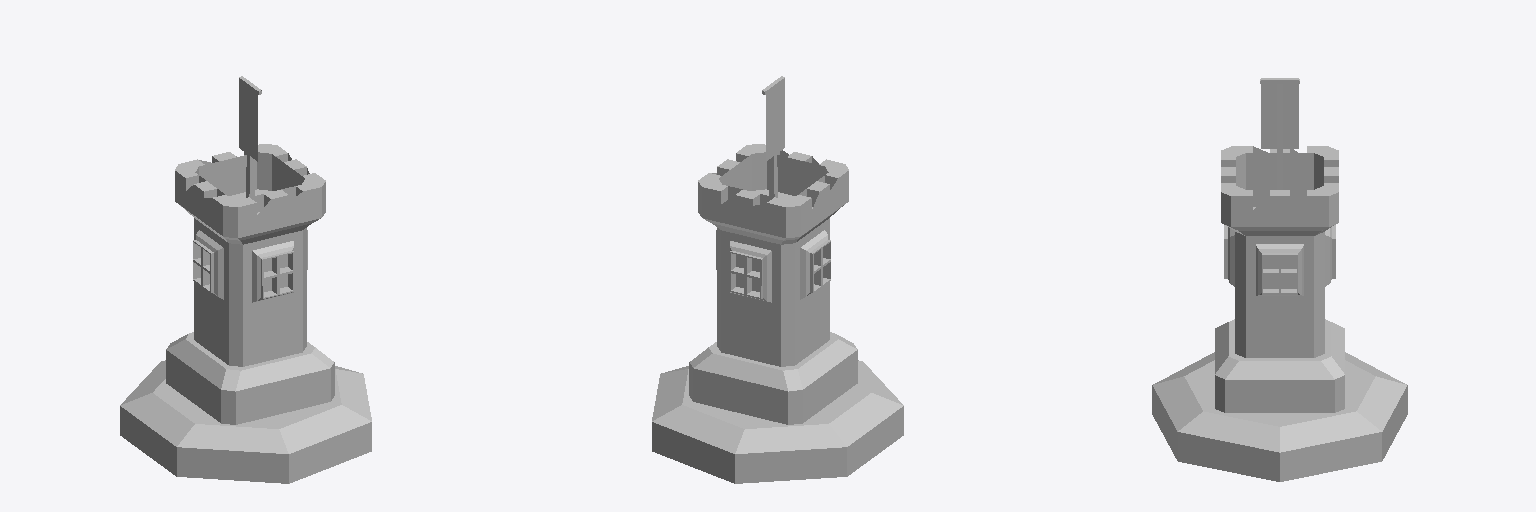
File: Windows Rook.obj
3 views of the same model, side by side, from view 1: azimuth 30°, elevation 25°; view 2: azimuth 150°, elevation 25°; view 3: azimuth 270°, elevation 25° (orthographic).
Parts seen in each view (by area): view 1: [MESH]_Flag_Plane.001; view 2: [MESH]_Flag_Plane.001; view 3: [MESH]_Flag_Plane.001.
Part boxes in pixels (x1,y1,x2,y2): [MESH]_Flag_Plane.001: (120,76,371,483); [MESH]_Flag_Plane.001: (652,76,903,483); [MESH]_Flag_Plane.001: (1152,78,1407,481).
Size of the model in its own units: 1.72 by 2.64 by 1.76.